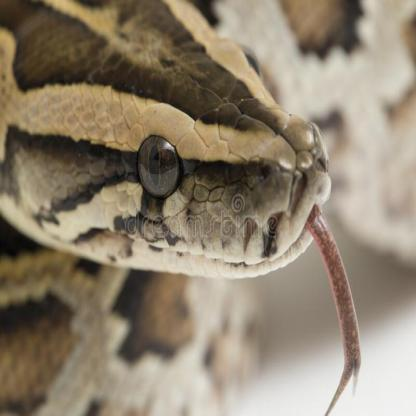Snake: (0, 1, 339, 312)
